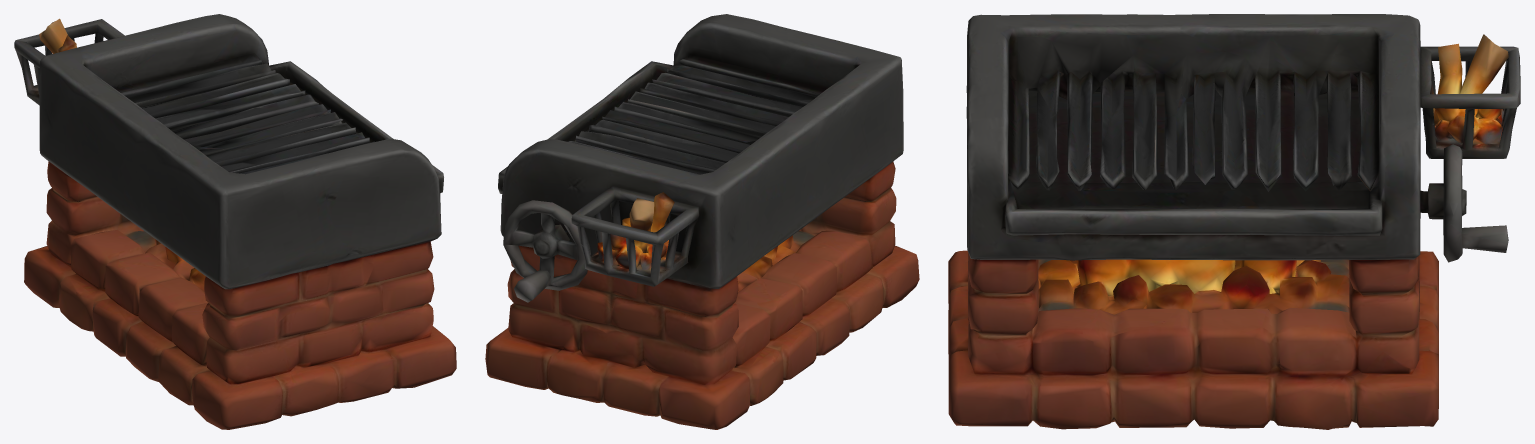
The model's file is parrilla.glb.
The picture shows the model from 3 angles, left to right: view 1: azimuth 30°, elevation 25°; view 2: azimuth 150°, elevation 25°; view 3: azimuth 270°, elevation 25°; orthographic projection. The views are drawn at different scales.
Visible parts, largest first — view 1: tripo_node_54b2b2f8-ae1d-4559-9866-d17d06f8944d; view 2: tripo_node_54b2b2f8-ae1d-4559-9866-d17d06f8944d; view 3: tripo_node_54b2b2f8-ae1d-4559-9866-d17d06f8944d.
Part boxes in pixels (left/top/right/bottom): tripo_node_54b2b2f8-ae1d-4559-9866-d17d06f8944d: left=14, top=14, right=456, bottom=429; tripo_node_54b2b2f8-ae1d-4559-9866-d17d06f8944d: left=485, top=14, right=919, bottom=429; tripo_node_54b2b2f8-ae1d-4559-9866-d17d06f8944d: left=948, top=14, right=1520, bottom=429.
Size of the model in its own units: 0.5982 by 0.5565 by 1.
1 material, 1 textured.
